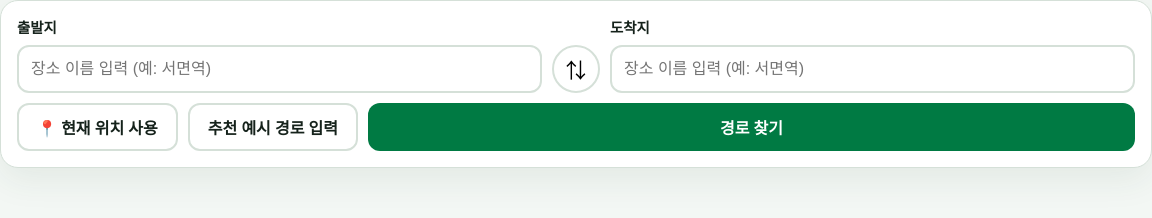
Test: 출발지·도착지 장소 검색 › 빈 응답은 검색어와 서비스 권역을 포함해 안내한다
This screenshot has width=1152, height=218.
Type "북구청" into the dropdown labelled "도착지".
click(872, 69); type("북구청")  # box [610, 45, 1135, 93]
Wait 200 ms
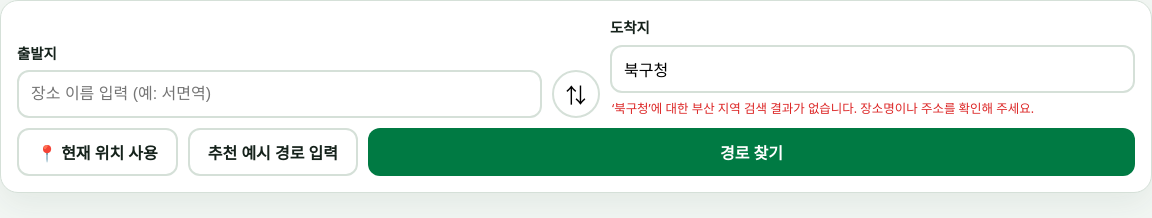
expect the message shows "‘북구청’에 대한 부산 지역 검색 결과": met, box [612, 100, 1034, 117]
expect the message shows "장소명이나 주소": met, box [612, 100, 1034, 117]
